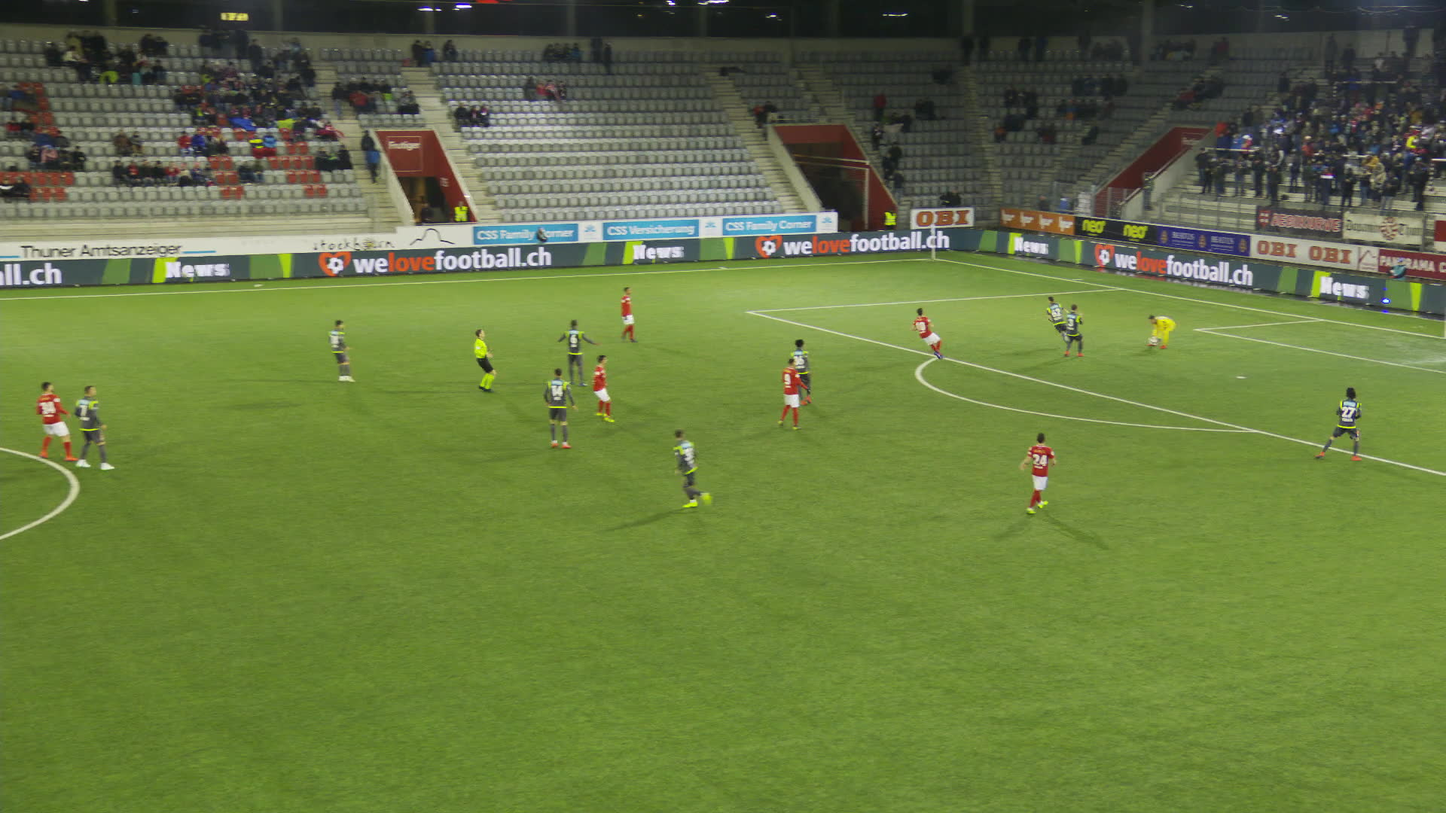ball: (1152, 337, 1160, 345)
player: (37, 380, 78, 460), (1322, 389, 1367, 460), (83, 385, 121, 467), (1020, 432, 1056, 513), (675, 429, 712, 507), (546, 370, 579, 448), (561, 319, 603, 379), (781, 359, 813, 428), (790, 342, 819, 407), (329, 321, 357, 384), (590, 354, 615, 422), (918, 308, 947, 360), (1066, 305, 1089, 357), (1047, 295, 1071, 344), (1147, 311, 1179, 345), (621, 287, 636, 341)
referee: (471, 330, 506, 393)
